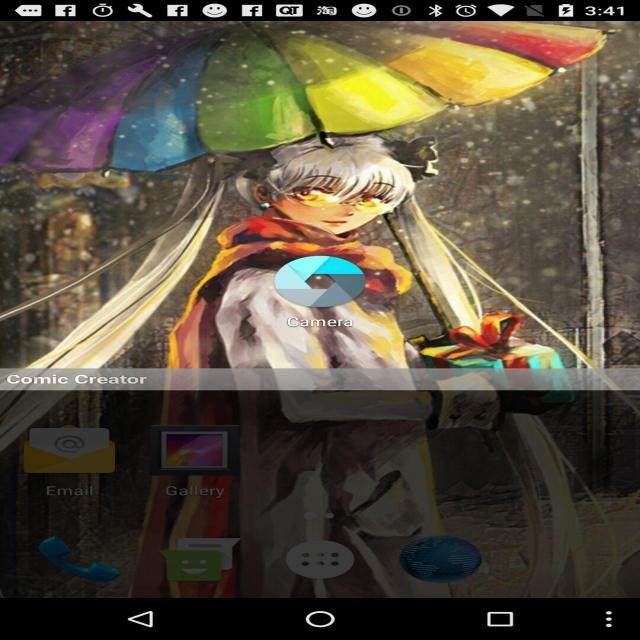icon: (259, 252, 380, 310)
image: (3, 20, 640, 377)
text: (262, 307, 384, 328)
